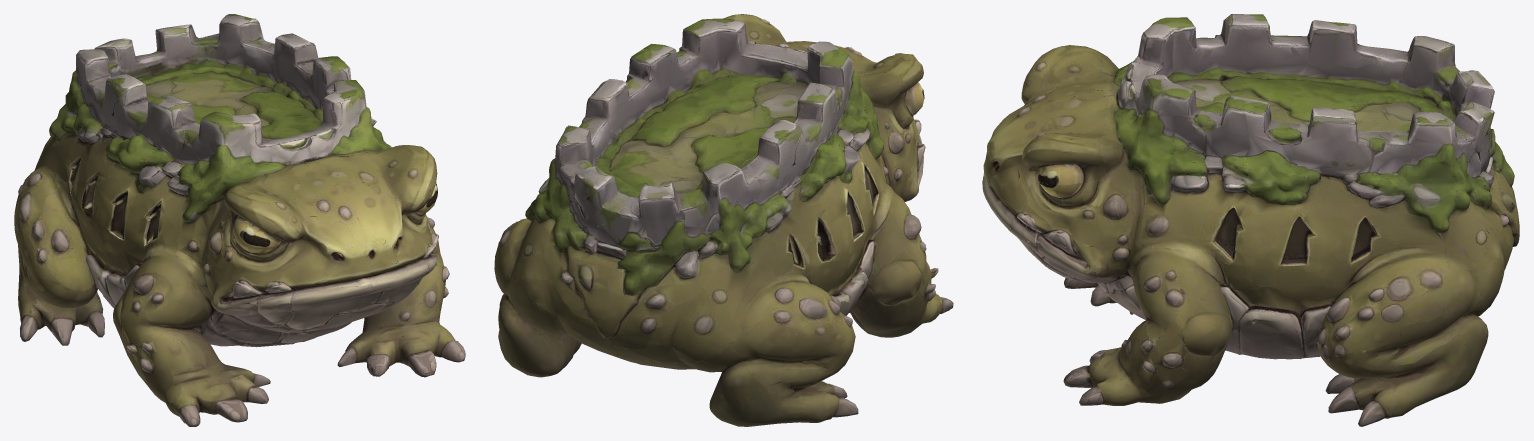
3 renders of one model, left to right at view 1: azimuth 30°, elevation 25°; view 2: azimuth 150°, elevation 25°; view 3: azimuth 270°, elevation 25°, orthographic. The views are drawn at different scales.
Parts seen in each view (by area): view 1: Mesh_0; view 2: Mesh_0; view 3: Mesh_0.
Boxes of the visible parts, x1,y1,x2,y2 form: Mesh_0: (14, 14, 465, 426); Mesh_0: (494, 14, 953, 426); Mesh_0: (982, 14, 1519, 426).
Bounding box in the file's own units: 1.54 × 1.1 × 1.9.
Materials: 1 (1 with a texture image).
